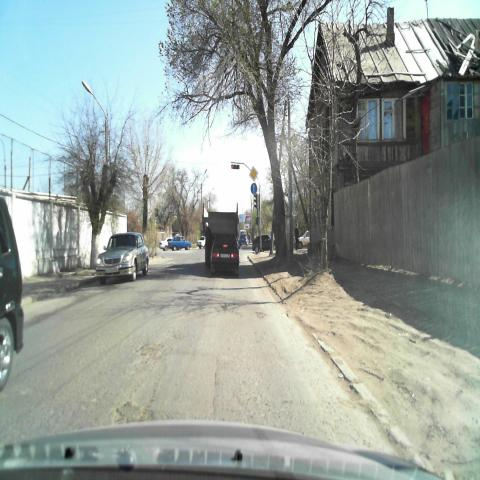4_1_1: (250, 182, 258, 196)
